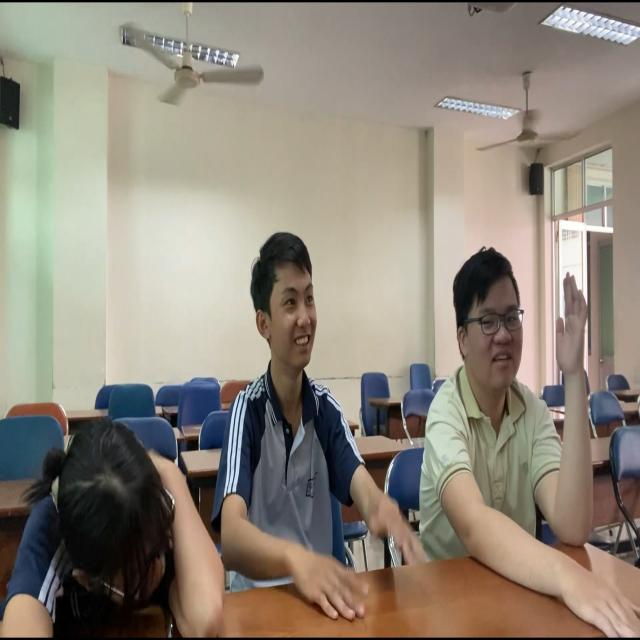raise_hand: (434, 237, 598, 632)
sleep: (1, 398, 239, 640)
